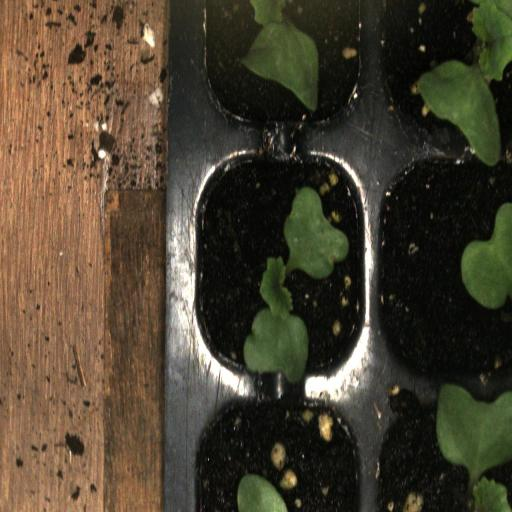Folha: (436, 384, 512, 512), (241, 0, 326, 111), (461, 202, 512, 309), (237, 474, 288, 512)
Germinacao: (182, 142, 370, 390), (372, 0, 512, 146)
